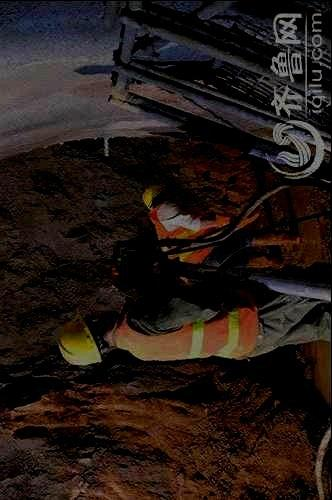helmet: (57, 309, 119, 366), (142, 182, 175, 210)
